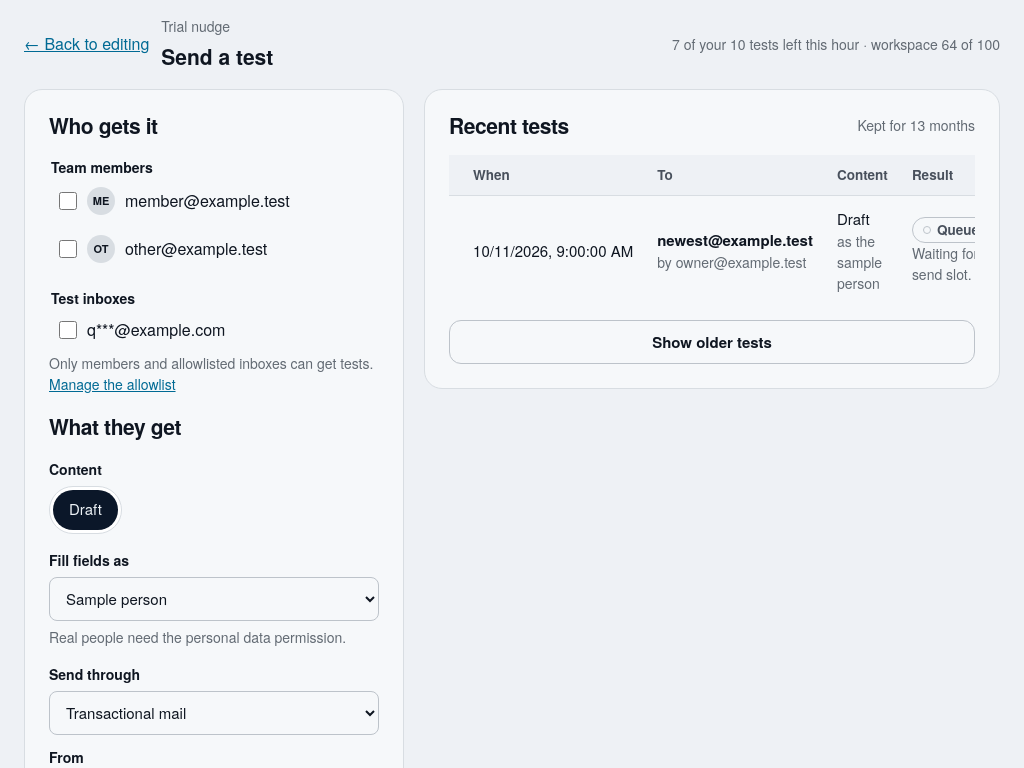
it: the recent tests › pages older tests with the cursor
Click the button "Show older tests" at (712, 342), box [449,320,975,364]
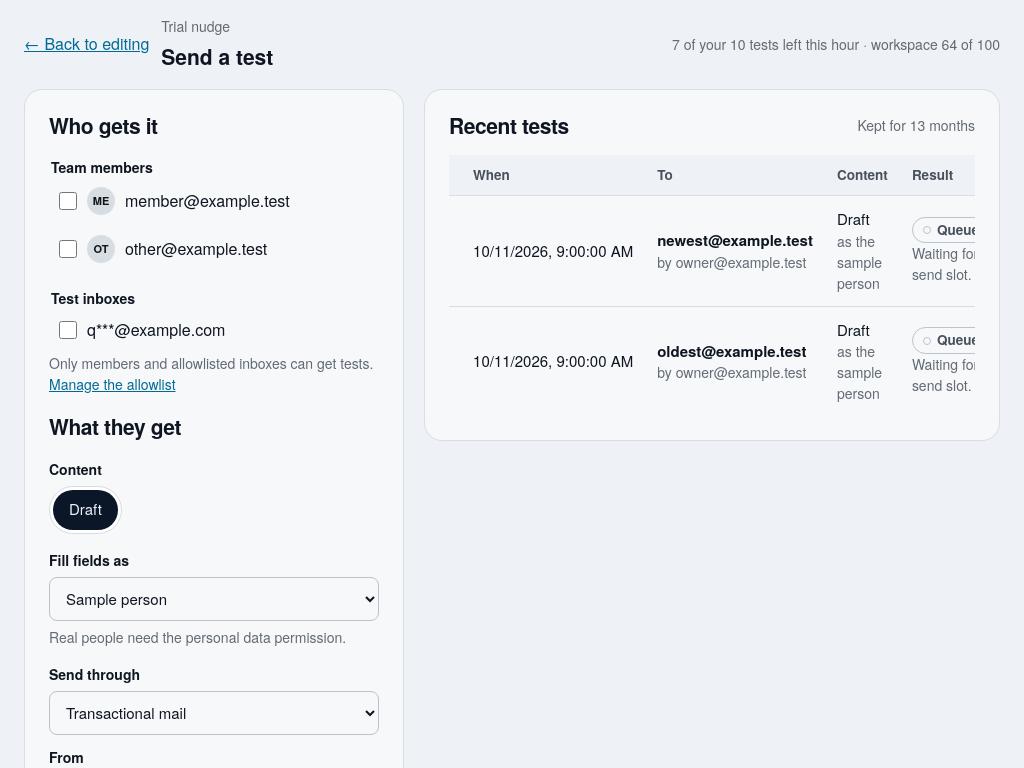
Expected: the text "newest@example.test" is shown, [657,229,813,252]
Result: the text "oldest@example.test" is shown at [657,340,813,362]
Result: the button "Show older tests" is gone
